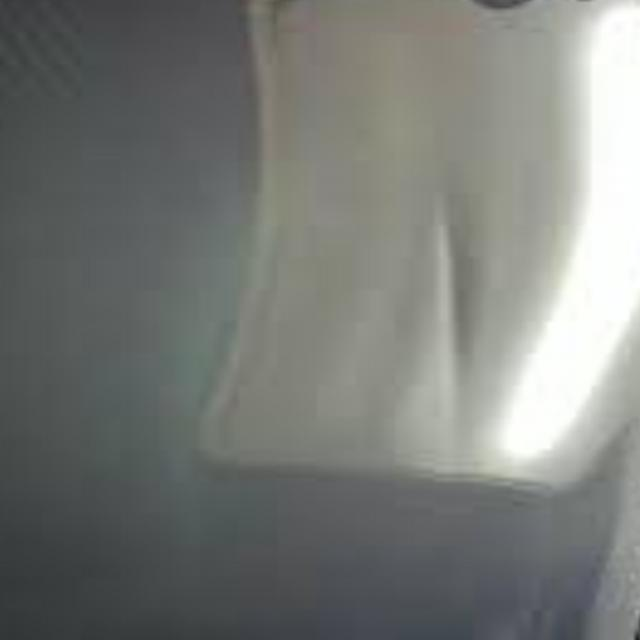dents: (411, 188, 524, 462)
